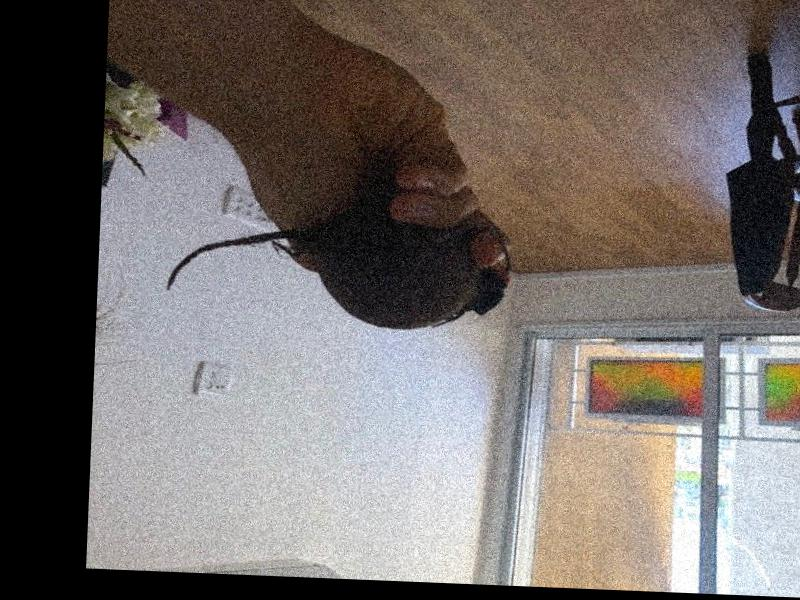Beet: (168, 206, 514, 332)
